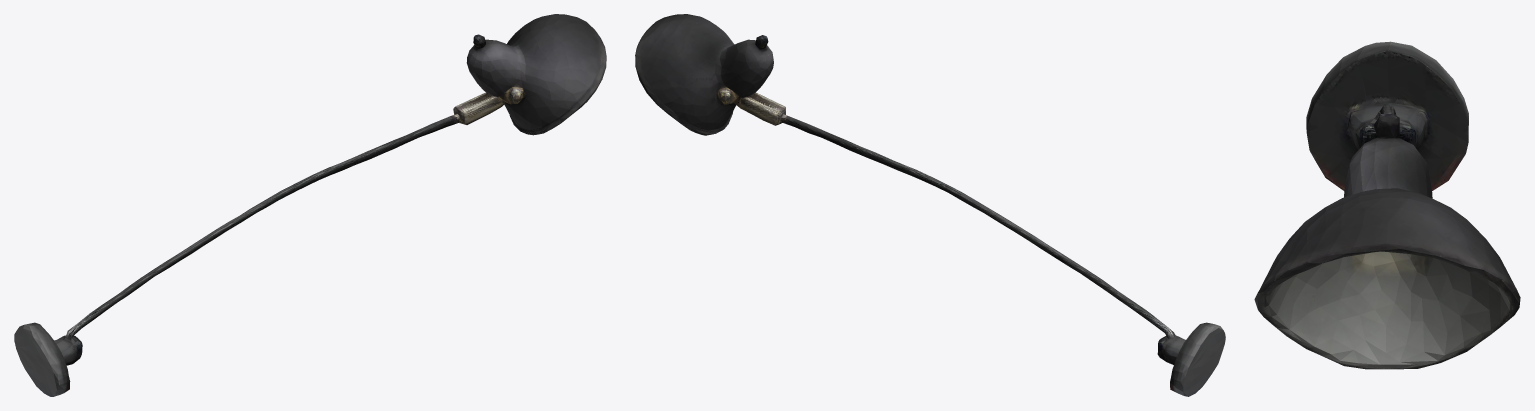
File: ast_7bbac9ee11d9.glb
3 views of the same model, side by side, from view 1: azimuth 30°, elevation 25°; view 2: azimuth 150°, elevation 25°; view 3: azimuth 270°, elevation 25° (orthographic). The views are drawn at different scales.
Visible parts, largest first — view 1: geometry_0; view 2: geometry_0; view 3: geometry_0.
Boxes of the visible parts, <box> form: geometry_0: <box>14,14,606,396</box>; geometry_0: <box>635,14,1225,396</box>; geometry_0: <box>1254,41,1520,369</box>.
Size of the model in its own units: 1 by 0.4309 by 0.2064.
Materials: 1 (1 with a texture image).
